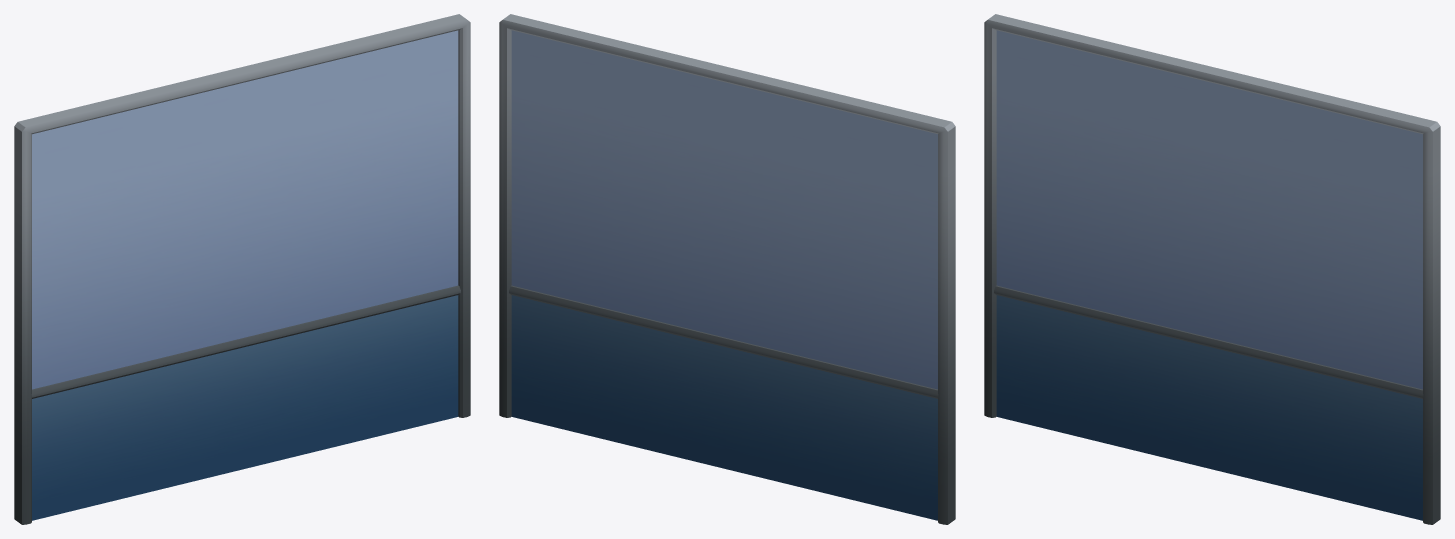
Rendered from Wall_02.fbx.
The picture shows the model from 3 angles, left to right: view 1: azimuth 30°, elevation 25°; view 2: azimuth 150°, elevation 25°; view 3: azimuth 330°, elevation 25°; orthographic projection.
Parts seen in each view (by area): view 1: Box012; view 2: Box012; view 3: Box012.
Part boxes in pixels (x1,y1,x2,y2): Box012: (14,14,470,524); Box012: (499,14,955,524); Box012: (984,14,1440,524).
Bounding box in the file's own units: 370 × 313 × 13.21.
